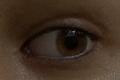eye: (56, 28, 88, 57)
